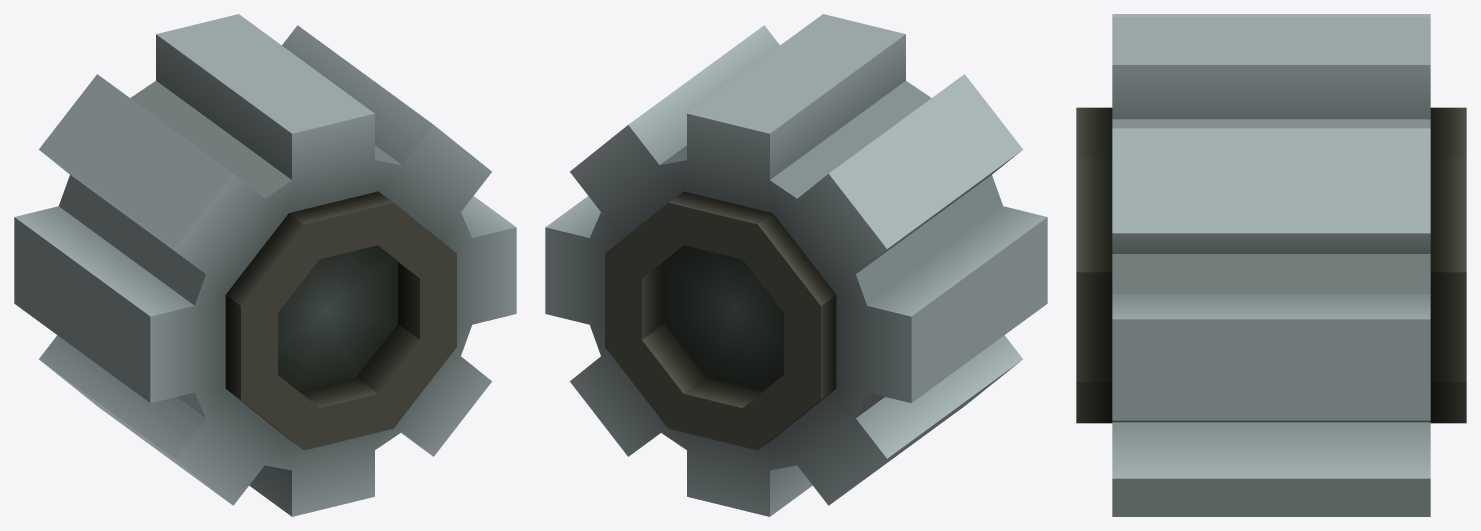
Rendered from Cog_B.fbx.
3 renders of one model, left to right at view 1: azimuth 30°, elevation 25°; view 2: azimuth 150°, elevation 25°; view 3: azimuth 270°, elevation 25°, orthographic. The views are drawn at different scales.
Parts seen in each view (by area): view 1: Cogwheel_B; view 2: Cogwheel_B; view 3: Cogwheel_B.
Part boxes in pixels (box(x1,y1,x2,y2)): Cogwheel_B: box(14, 14, 516, 516); Cogwheel_B: box(545, 14, 1047, 516); Cogwheel_B: box(1076, 14, 1466, 516).
Size of the model in its own units: 38.82 by 38.82 by 30.66.
